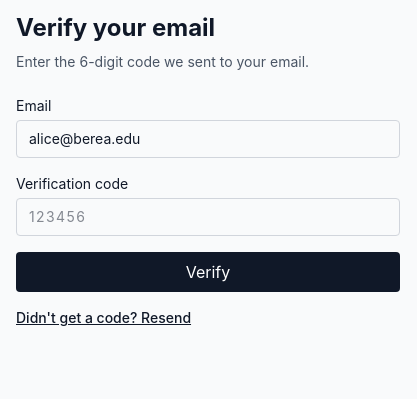
Test case: VerifyEmailPage › resends the code and shows a confirmation message
The image size is (417, 399).
What coordinates should you click on to do the following:
click the button "Didn't get a code? Resend"
I would click on:
 (104, 318)
Its box is [16, 308, 191, 328].
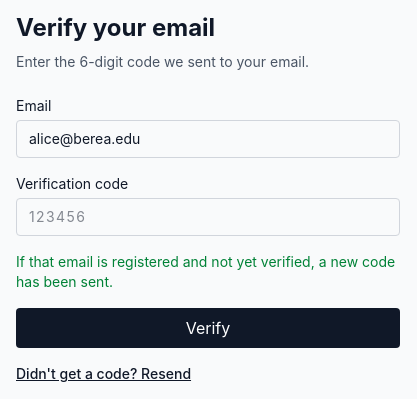
Now the text "If that email is registered and not yet verified, a new code has been sent." is shown, box [16, 252, 400, 292]
